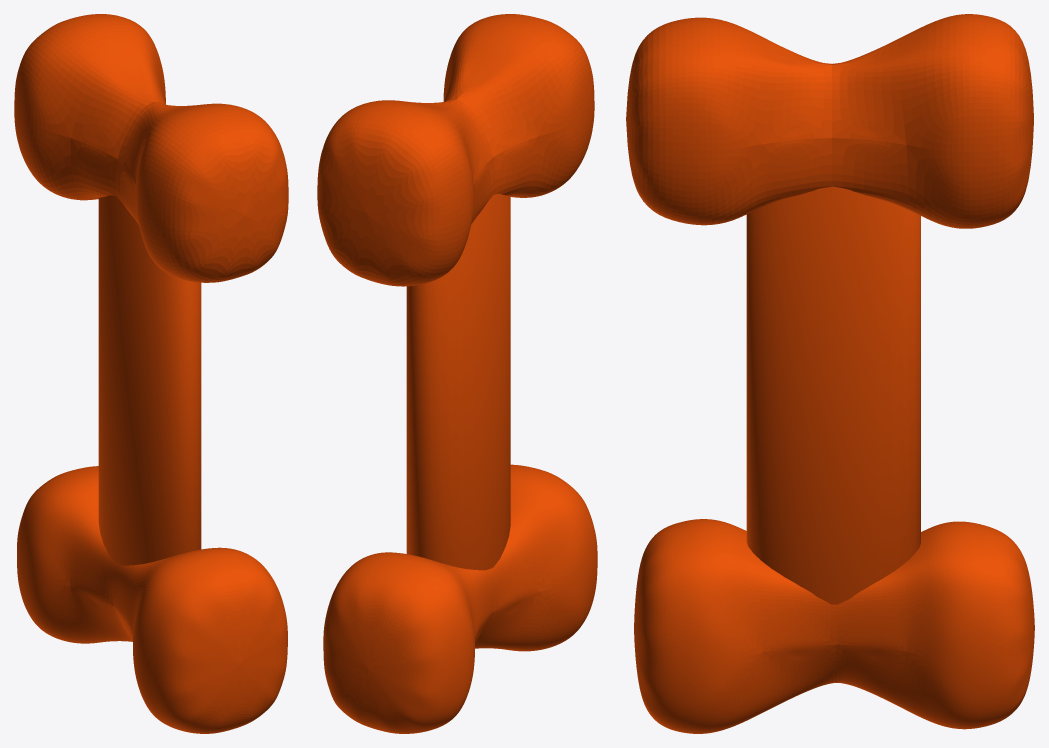
The model's file is dogTreatV6.fbx.
The picture shows the model from 3 angles, left to right: view 1: azimuth 30°, elevation 25°; view 2: azimuth 150°, elevation 25°; view 3: azimuth 270°, elevation 25°; orthographic projection. The views are drawn at different scales.
Parts seen in each view (by area): view 1: Cube.001, Cube.002, Cylinder; view 2: Cube.001, Cube.002, Cylinder; view 3: Cube.001, Cylinder, Cube.002.
Boxes of the visible parts, left/top/right/bottom form: Cube.001: left=14, top=14, right=288, bottom=282; Cube.002: left=17, top=466, right=287, bottom=733; Cylinder: left=98, top=195, right=201, bottom=565; Cube.001: left=317, top=14, right=594, bottom=286; Cube.002: left=323, top=464, right=597, bottom=733; Cylinder: left=406, top=193, right=510, bottom=570; Cube.001: left=626, top=14, right=1033, bottom=228; Cylinder: left=746, top=186, right=920, bottom=604; Cube.002: left=634, top=519, right=1034, bottom=733.
Size of the model in its own units: 15.69 by 67.88 by 36.12.
